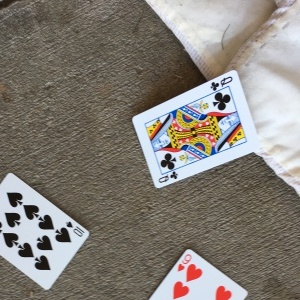card: (132, 68, 259, 190)
